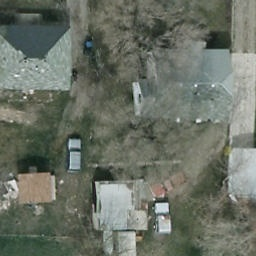car: (153, 204, 174, 235), (64, 138, 82, 174)
